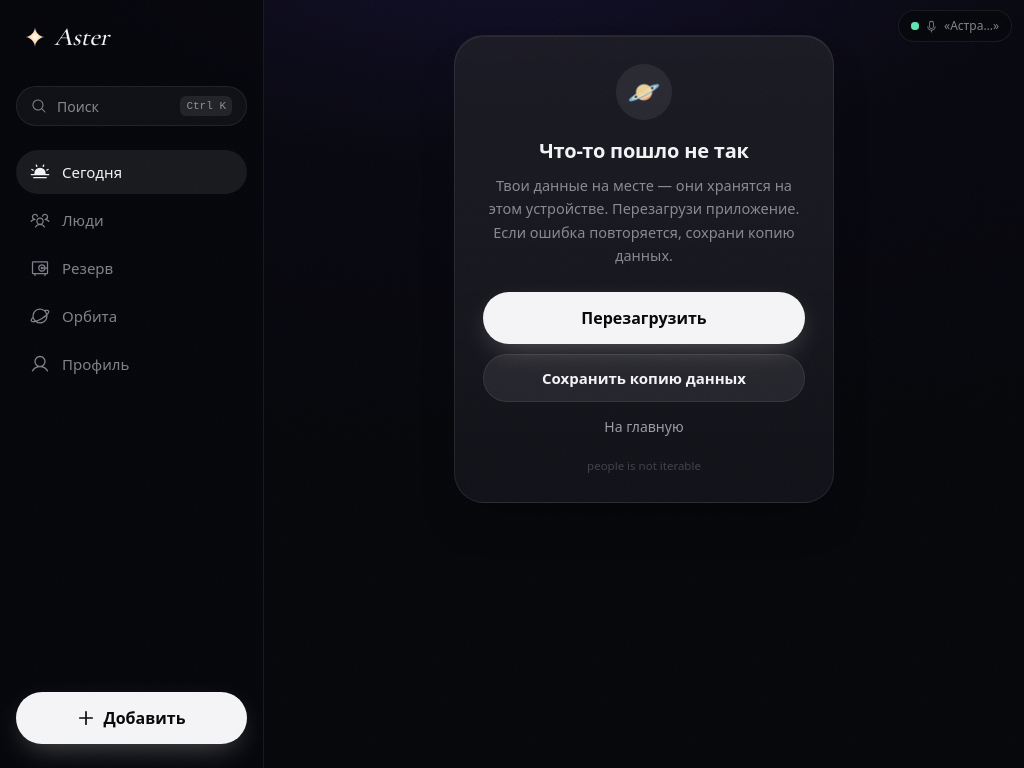
Test case: hands-free voice control › tapping the "Astra…" button opens a window for one command without the name
The image size is (1024, 768).
Step 1. Click the button "«Астра…»" → (955, 26), box [898,10,1012,42]
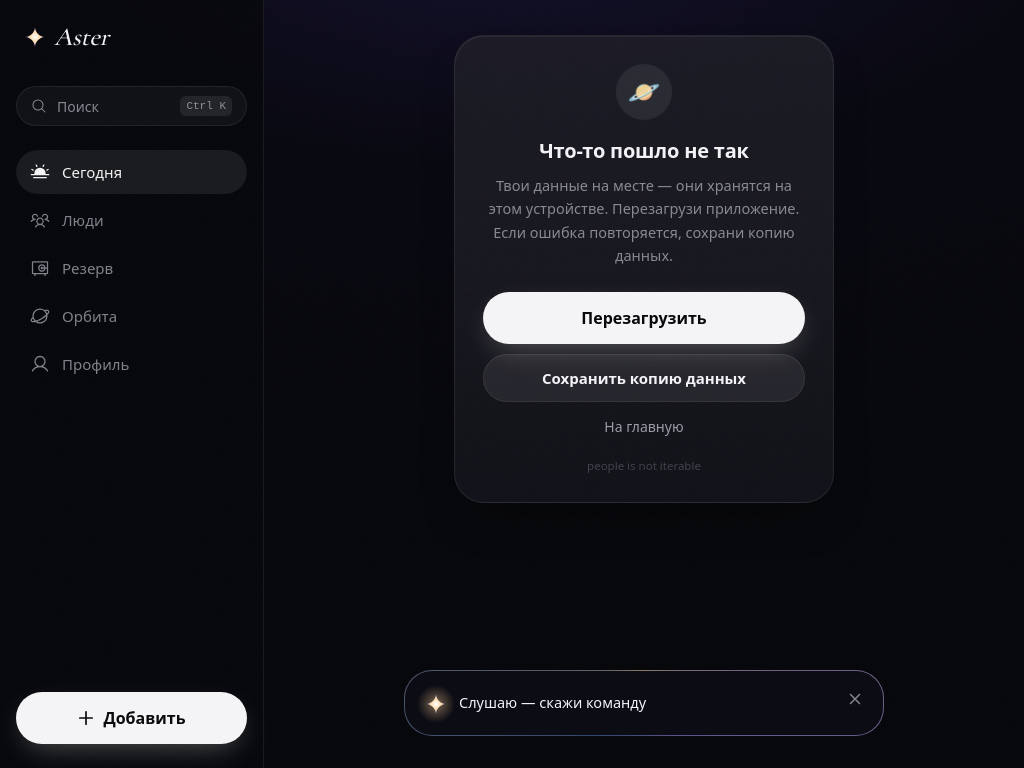
Expected: the text "Слушаю — скажи команду" is shown, [459,692,646,712]
Step 2. Click the button named "Закрыть" → (855, 699), box [847,691,863,707]
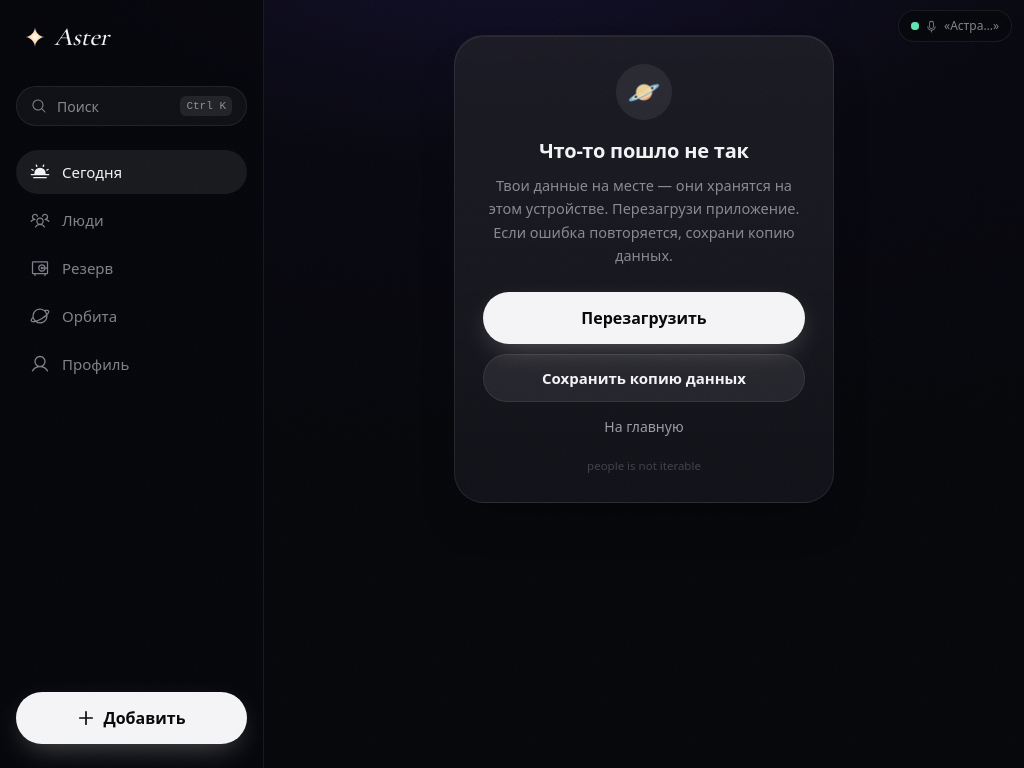
Expected: the dialog is gone
